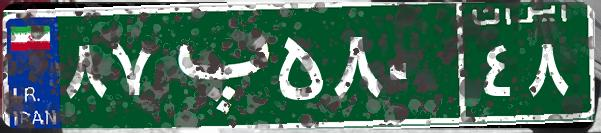0: (385, 28, 445, 110)
4: (475, 38, 525, 113)
5: (273, 28, 330, 110)
7: (110, 28, 158, 105)
8: (330, 28, 385, 110), (57, 26, 110, 107), (525, 38, 570, 115)
پ: (158, 15, 273, 115)
